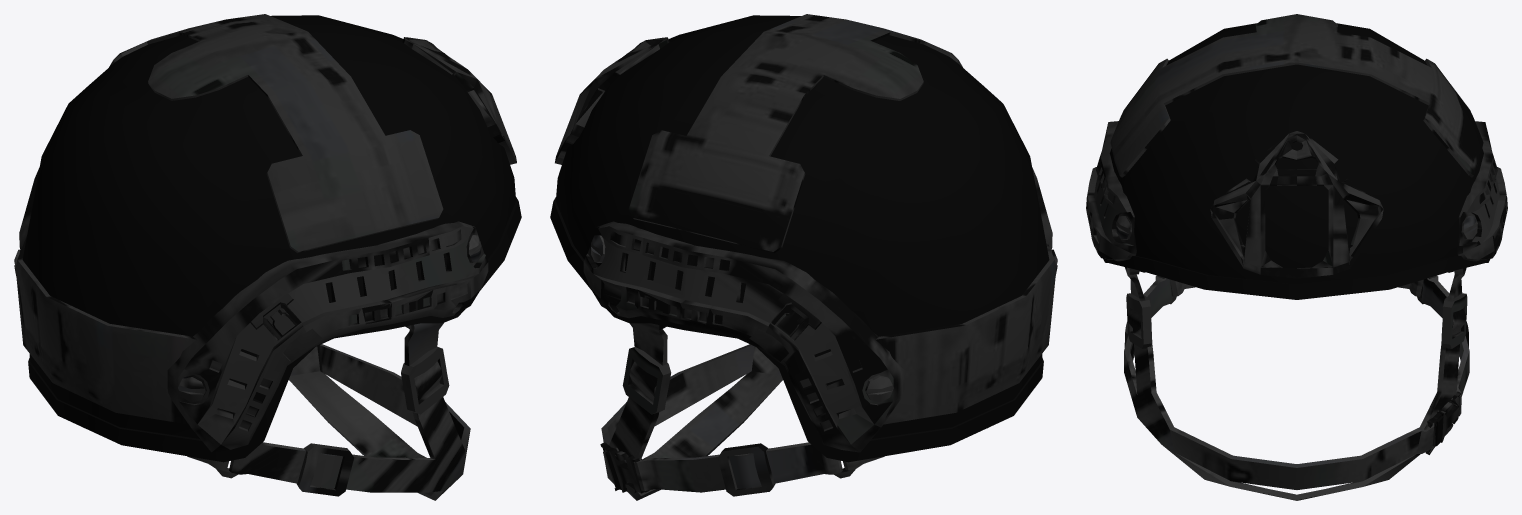
The model's file is fast_blk.glb.
3 renders of one model, left to right at view 1: azimuth 30°, elevation 25°; view 2: azimuth 150°, elevation 25°; view 3: azimuth 270°, elevation 25°, orthographic. The views are drawn at different scales.
Parts seen in each view (by area): view 1: Object_4; view 2: Object_4; view 3: Object_4.
Part boxes in pixels (left/top/right/bottom): Object_4: left=14, top=14, right=521, bottom=500; Object_4: left=550, top=14, right=1057, bottom=500; Object_4: left=1086, top=14, right=1507, bottom=500.
Size of the model in its own units: 1.67 by 1.67 by 1.57.
1 material, 1 textured.
